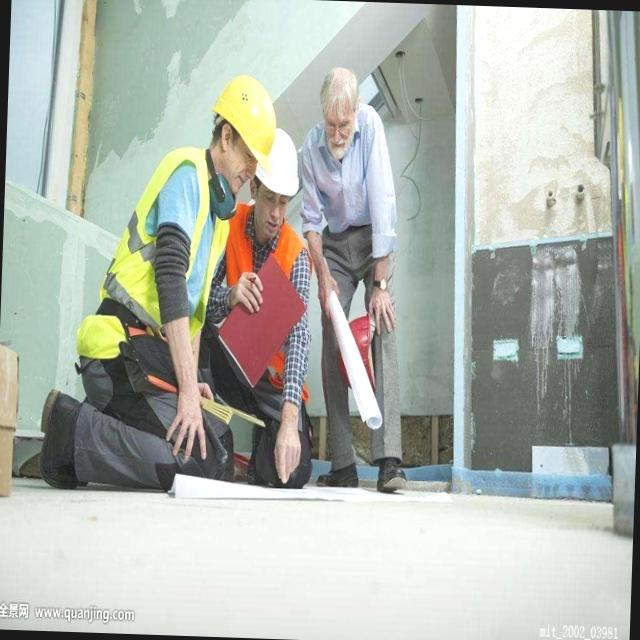helmet: (202, 72, 280, 175), (256, 134, 302, 204)
no-helmet: (314, 63, 362, 138)
no-vest: (308, 142, 390, 250)
vest: (116, 134, 232, 368), (228, 201, 310, 292)
